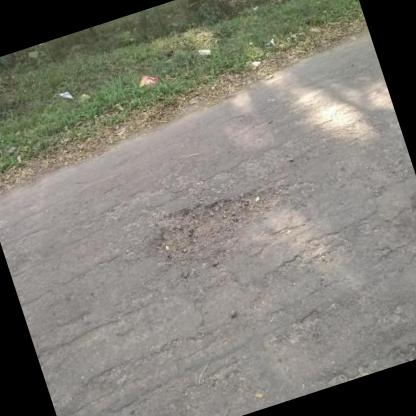pothole: (140, 176, 294, 272)
